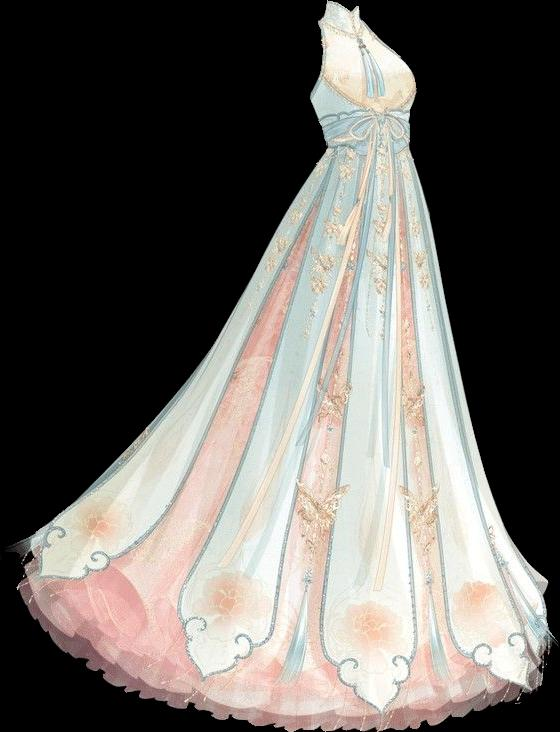Bodice: (310, 0, 416, 153)
Hemline: (19, 546, 556, 722)
Neckline: (320, 73, 416, 124), (326, 0, 361, 17)
Skirt: (7, 143, 554, 731)
Waistline: (324, 136, 418, 159)
